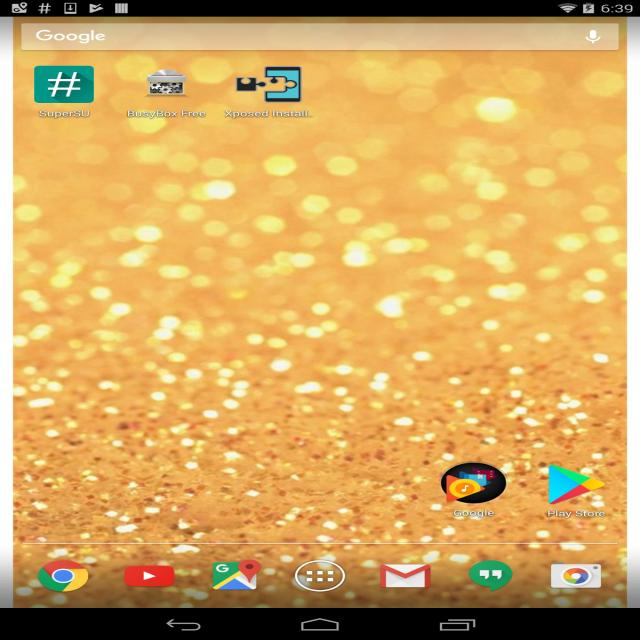button: (120, 63, 211, 122), (223, 63, 312, 123), (535, 460, 622, 520), (28, 62, 104, 121), (439, 460, 508, 519), (545, 561, 608, 593), (35, 558, 90, 594), (376, 560, 435, 592), (120, 560, 177, 592), (466, 558, 516, 594), (292, 560, 348, 592), (209, 559, 260, 591), (582, 28, 605, 46)
field: (20, 24, 618, 50)
image: (15, 16, 627, 606), (228, 65, 305, 104), (542, 463, 611, 505), (441, 462, 508, 505), (35, 65, 95, 103), (145, 68, 190, 98)
label: (32, 28, 107, 44)
text: (223, 109, 312, 119), (126, 109, 208, 119), (545, 509, 608, 519), (450, 508, 498, 519), (38, 110, 94, 119)
